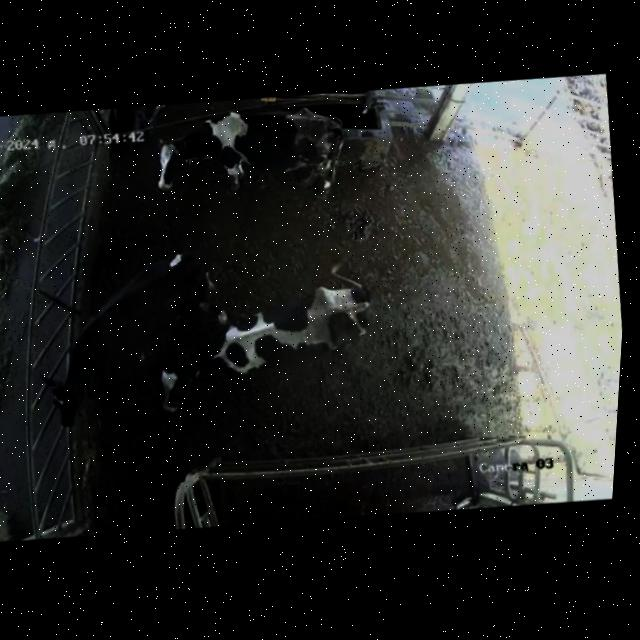stand: (11, 231, 236, 455), (137, 255, 407, 430), (127, 87, 365, 219)
